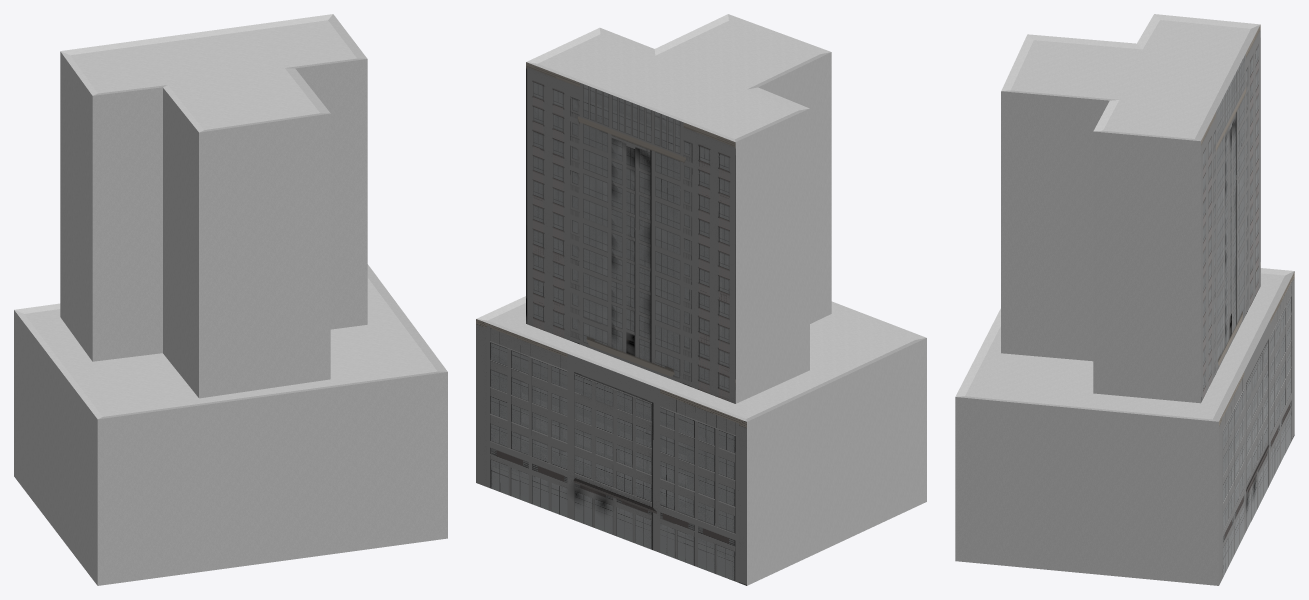
Rendered from bangonglou3.gltf.
The picture shows the model from 3 angles, left to right: view 1: azimuth 30°, elevation 25°; view 2: azimuth 150°, elevation 25°; view 3: azimuth 270°, elevation 25°; orthographic projection.
Parts seen in each view (by area): view 1: Line3117650; view 2: Line3117650; view 3: Line3117650.
Boxes of the visible parts, x1,y1,x2,y2 form: Line3117650: [14, 14, 447, 585]; Line3117650: [476, 14, 926, 585]; Line3117650: [955, 14, 1294, 585].
Size of the model in its own units: 234 by 266 by 193.
Materials: 3 (3 with a texture image).
